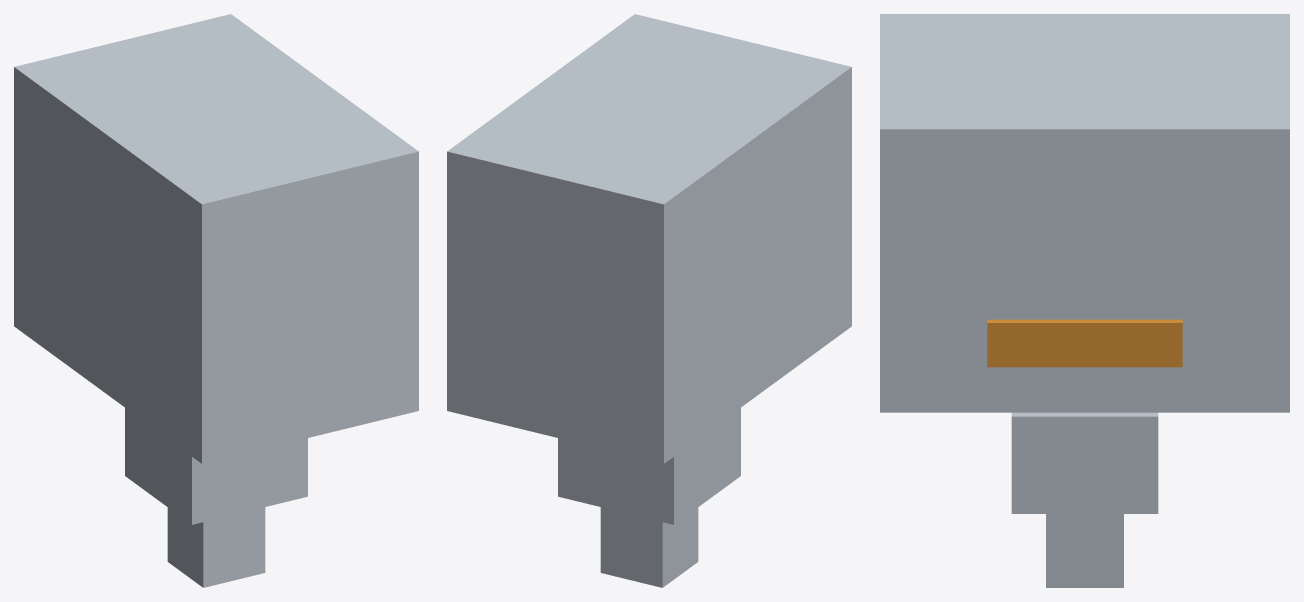
Rendered from armor.glb.
3 renders of one model, left to right at view 1: azimuth 30°, elevation 25°; view 2: azimuth 150°, elevation 25°; view 3: azimuth 270°, elevation 25°, orthographic. The views are drawn at different scales.
Parts seen in each view (by area): view 1: chest, arm_L, forearm_L; view 2: chest, arm_L, forearm_L; view 3: chest, arm_L, forearm_L.
Part boxes in pixels (x1,y1,x2,y2): chest: (14,14,418,463); arm_L: (125,408,307,524); forearm_L: (167,507,265,587); chest: (447,14,851,463); arm_L: (558,408,740,524); forearm_L: (600,507,698,587); chest: (880,14,1289,412); arm_L: (1011,412,1158,513); forearm_L: (1046,514,1123,587).
Size of the model in its own units: 0.288 by 0.565 by 0.42.
